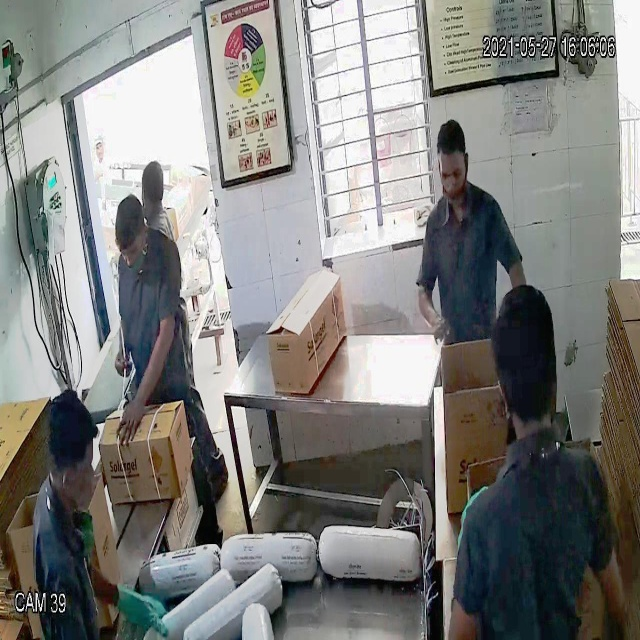Sin_gafas: (432, 156, 474, 191), (115, 231, 155, 263)
